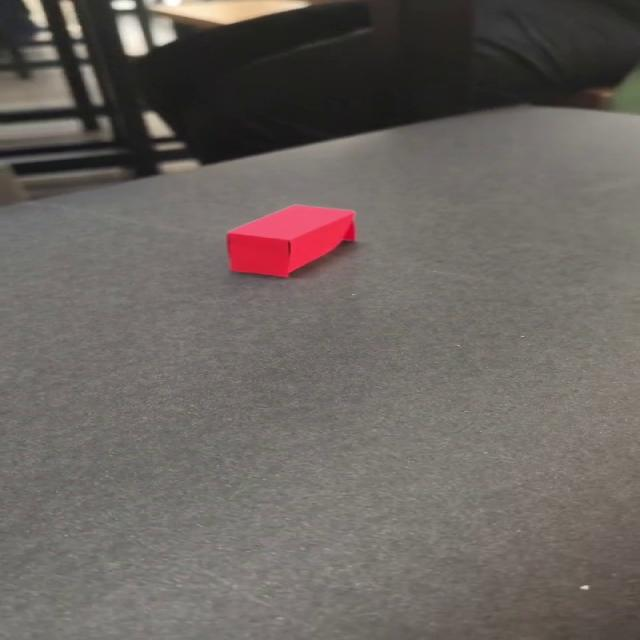red block: (224, 203, 356, 278)
